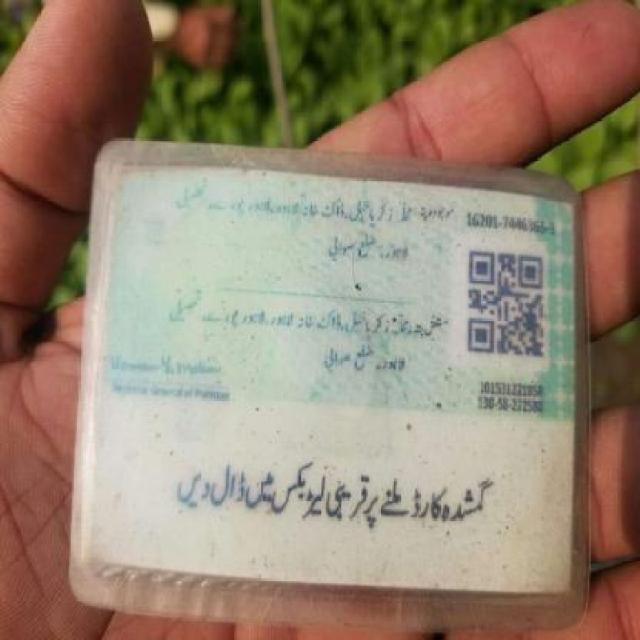Back: (86, 155, 592, 603)
